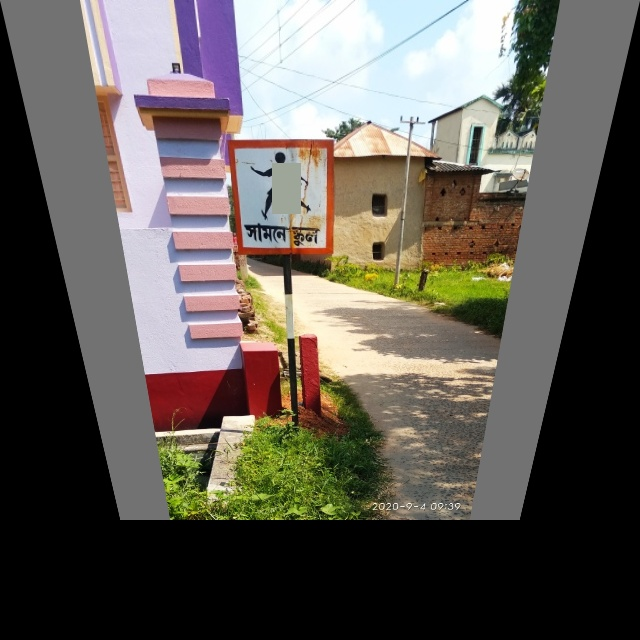School_Ahead: (233, 140, 332, 251)
